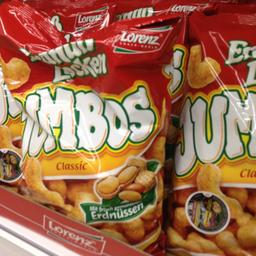chips: (5, 6, 184, 246), (170, 12, 255, 254)
